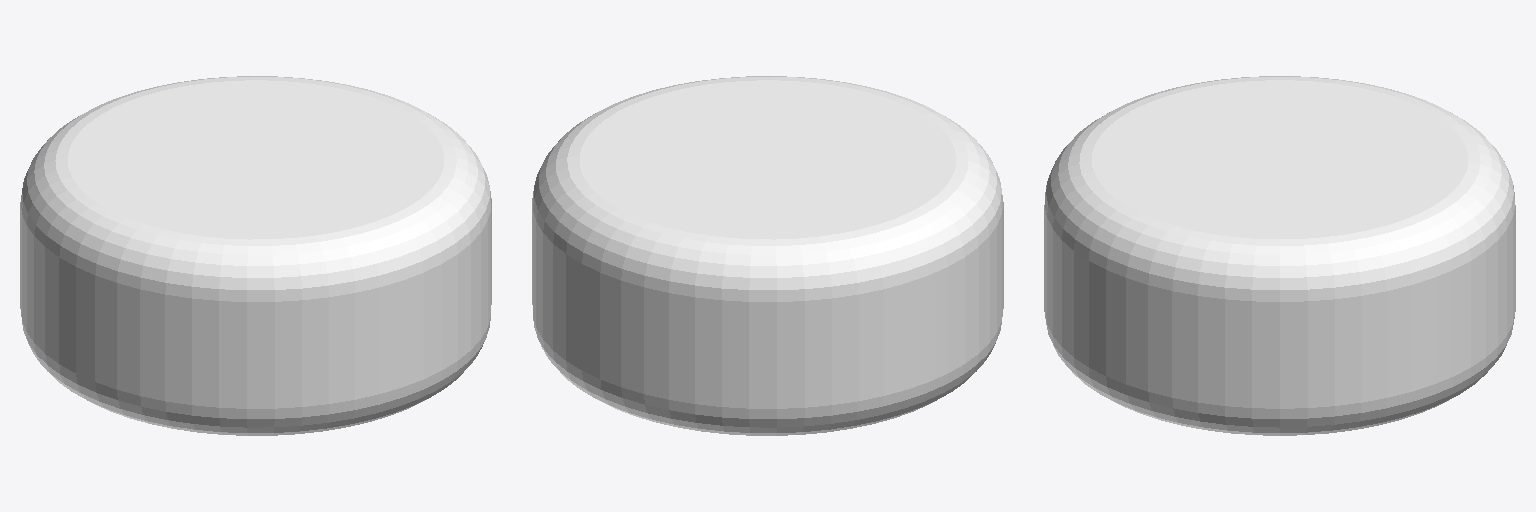
The robot description file, URDF, robot "puck":
<?xml version="1.0"?>
<robot name="puck">
    <link name="base">
    <contact>
      <rolling_friction value="0.10"/>
      <spinning_friction value="0.10"/>
      <lateral_friction value="1.10"/>
    </contact>
    <visual>
      <geometry>
		<mesh filename="puck.obj" scale="5 5 5"/>
      </geometry>
      <material name="white">
        <color rgba="1 1 1 1"/>
        <specular rgb="1 1 1"/>
      </material>
    </visual>
    <collision>
      <geometry>
		<mesh filename="puck.obj" scale="5 5 5"/>
      </geometry>
           <origin xyz="0 0 0"/>
        </collision>
        <inertial>
            <mass value="0.03"/>
            <inertia ixx="1" ixy="0" ixz="0" iyy="1" iyz="0" izz="1"/>
        </inertial>
    </link>
</robot>

--- What the picture shows (computed from the rendered views, not written in the file) ---
The picture shows the robot from 3 angles, left to right: view 1: azimuth 30°, elevation 25°; view 2: azimuth 150°, elevation 25°; view 3: azimuth 270°, elevation 25°; orthographic projection.
Robot: puck — 1 links, 0 joints (none); root link base; default pose: every joint at zero.
Links seen in each view (by area): view 1: base; view 2: base; view 3: base.
Link boxes in pixels (left/top/right/bottom): base: left=20, top=76, right=491, bottom=435; base: left=532, top=76, right=1003, bottom=435; base: left=1044, top=76, right=1515, bottom=435.
Size in the robot's own frame: 0.4996 by 0.4998 by 0.225 metres.
1 mesh visuals loaded from 1 distinct referenced files (1 OBJ).